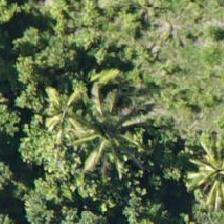coconut_tree: (17, 67, 107, 157), (63, 84, 153, 174), (170, 125, 223, 215)
